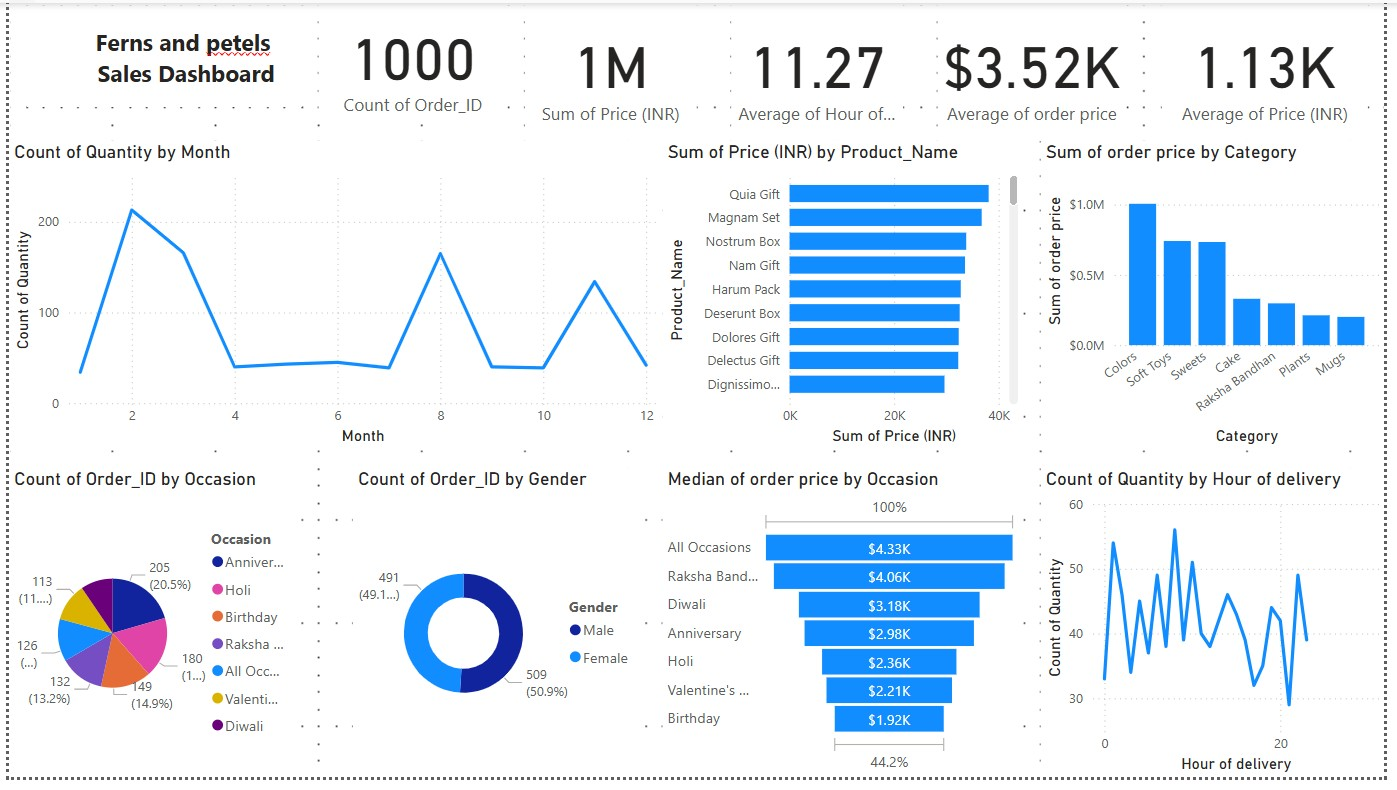

This screenshot's page, from the dashboard's own definition file:
{"tool":"powerbi","page":{"name":"Page 2","canvas":[1280,720],"ordinal":1},"visuals":[{"type":"pieChart","fields":{"Category":["order.Occasion"],"Y":["CountNonNull(order.Order_ID)"]},"box":[0,432,272,288],"z":0},{"type":"donutChart","fields":{"Category":["customer.Gender"],"Y":["CountNonNull(order.Order_ID)"]},"box":[320,432,272,288],"z":1},{"type":"lineChart","fields":{"Category":["order.Month"],"Y":["CountNonNull(order.Quantity)"]},"box":[0,128,608,288],"z":2},{"type":"funnel","fields":{"Category":["order.Occasion"],"Y":["Median(order.order price)"]},"box":[608,432,336,288],"z":3},{"type":"clusteredBarChart","fields":{"Category":["product.Product_Name"],"Y":["Sum(order.Price (INR))"]},"box":[608,128,336,288],"z":4},{"type":"lineChart","fields":{"Category":["order.Hour of delivery"],"Y":["CountNonNull(order.Quantity)"]},"box":[960,432,320,288],"z":5},{"type":"lineClusteredColumnComboChart","fields":{"Category":["product.Category"],"Y":["Sum(order.order price)"]},"box":[960,128,320,288],"z":6},{"type":"card","fields":{"Values":["CountNonNull(order.Order_ID)"]},"box":[288,0,176,112],"z":7},{"type":"card","fields":{"Values":["Sum(order.Price (INR))"]},"box":[480,0,160,128],"z":8},{"type":"card","fields":{"Values":["Avg(order.Hour of delivery)"]},"box":[672,0,160,128],"z":9},{"type":"card","fields":{"Values":["Avg(order.order price)"]},"box":[864,0,176,128],"z":10},{"type":"card","fields":{"Values":["Avg(product.Price (INR))"]},"box":[1072,0,192,128],"z":11},{"type":"textbox","box":[16,16,256,80],"z":12}]}

Visuals, with their boxes in screenshot pixels (x1, y1, x2, y2), scaled from the page's 1280x720 canvas onto the 1397x790 screenshot:
pieChart - order.Occasion x CountNonNull(order.Order_ID): 0, 474, 297, 789
donutChart - customer.Gender x CountNonNull(order.Order_ID): 349, 474, 646, 789
lineChart - order.Month x CountNonNull(order.Quantity): 0, 140, 664, 456
funnel - order.Occasion x Median(order.order price): 664, 474, 1030, 789
clusteredBarChart - product.Product_Name x Sum(order.Price (INR)): 664, 140, 1030, 456
lineChart - order.Hour of delivery x CountNonNull(order.Quantity): 1048, 474, 1396, 789
lineClusteredColumnComboChart - product.Category x Sum(order.order price): 1048, 140, 1396, 456
card - CountNonNull(order.Order_ID): 314, 0, 506, 123
card - Sum(order.Price (INR)): 524, 0, 698, 140
card - Avg(order.Hour of delivery): 733, 0, 908, 140
card - Avg(order.order price): 943, 0, 1135, 140
card - Avg(product.Price (INR)): 1170, 0, 1380, 140
textbox: 17, 18, 297, 105
